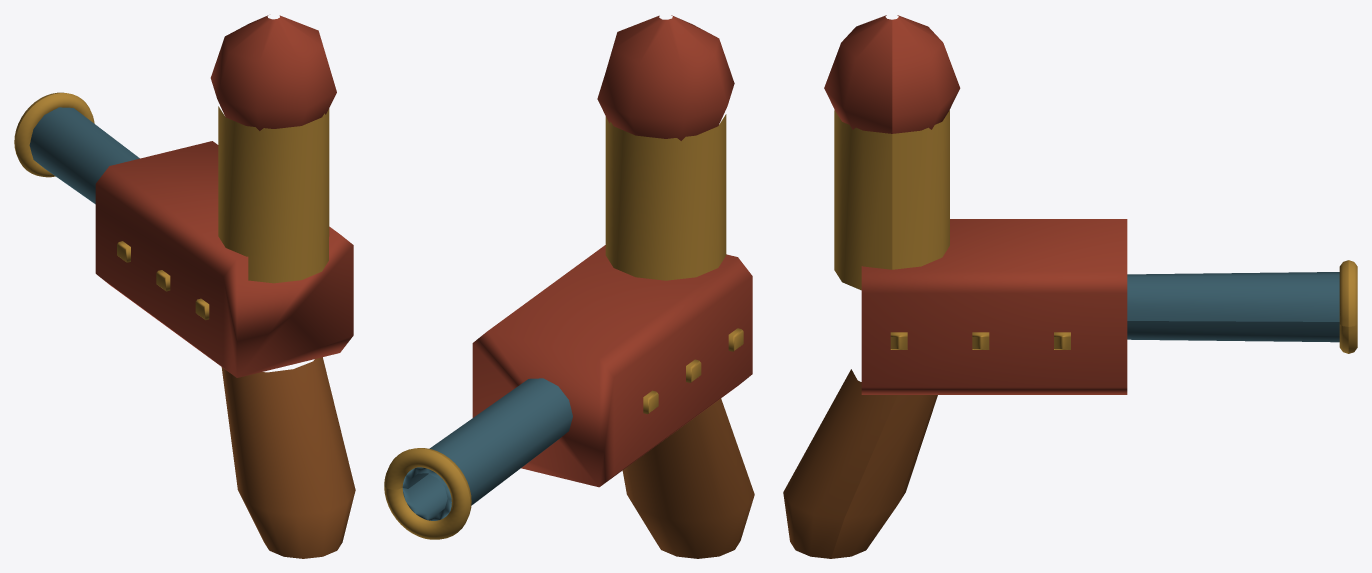
Rendered from weapon_flame.glb.
3 views of the same model, side by side, from view 1: azimuth 30°, elevation 25°; view 2: azimuth 150°, elevation 25°; view 3: azimuth 270°, elevation 25° (orthographic). The views are drawn at different scales.
Visible parts, largest first — view 1: ShapedReceiver, Grip, Tank, TankCharge, HollowBarrel0, BarrelCuff0; view 2: ShapedReceiver, Tank, Grip, TankCharge, HollowBarrel0, BarrelCuff0; view 3: ShapedReceiver, Grip, Tank, HollowBarrel0, TankCharge, BarrelCuff0.
Part boxes in pixels (x1=…): ShapedReceiver: x1=95, y1=141, x2=353, y2=377; Grip: x1=221, y1=357, x2=355, y2=558; Tank: x1=218, y1=106, x2=329, y2=283; TankCharge: x1=210, y1=15, x2=336, y2=130; HollowBarrel0: x1=29, y1=107, x2=139, y2=204; BarrelCuff0: x1=14, y1=92, x2=94, y2=177; ShapedReceiver: x1=472, y1=245, x2=752, y2=487; Tank: x1=605, y1=114, x2=726, y2=280; Grip: x1=622, y1=398, x2=754, y2=558; TankCharge: x1=597, y1=15, x2=734, y2=140; HollowBarrel0: x1=402, y1=378, x2=572, y2=520; BarrelCuff0: x1=384, y1=448, x2=471, y2=539; ShapedReceiver: x1=861, y1=219, x2=1127, y2=394; Grip: x1=783, y1=369, x2=937, y2=558; Tank: x1=834, y1=110, x2=949, y2=290; HollowBarrel0: x1=1127, y1=272, x2=1339, y2=342; TankCharge: x1=824, y1=15, x2=960, y2=133; BarrelCuff0: x1=1339, y1=260, x2=1357, y2=353.
Bounding box in the file's own units: 0.25 × 0.85 × 0.8433.
